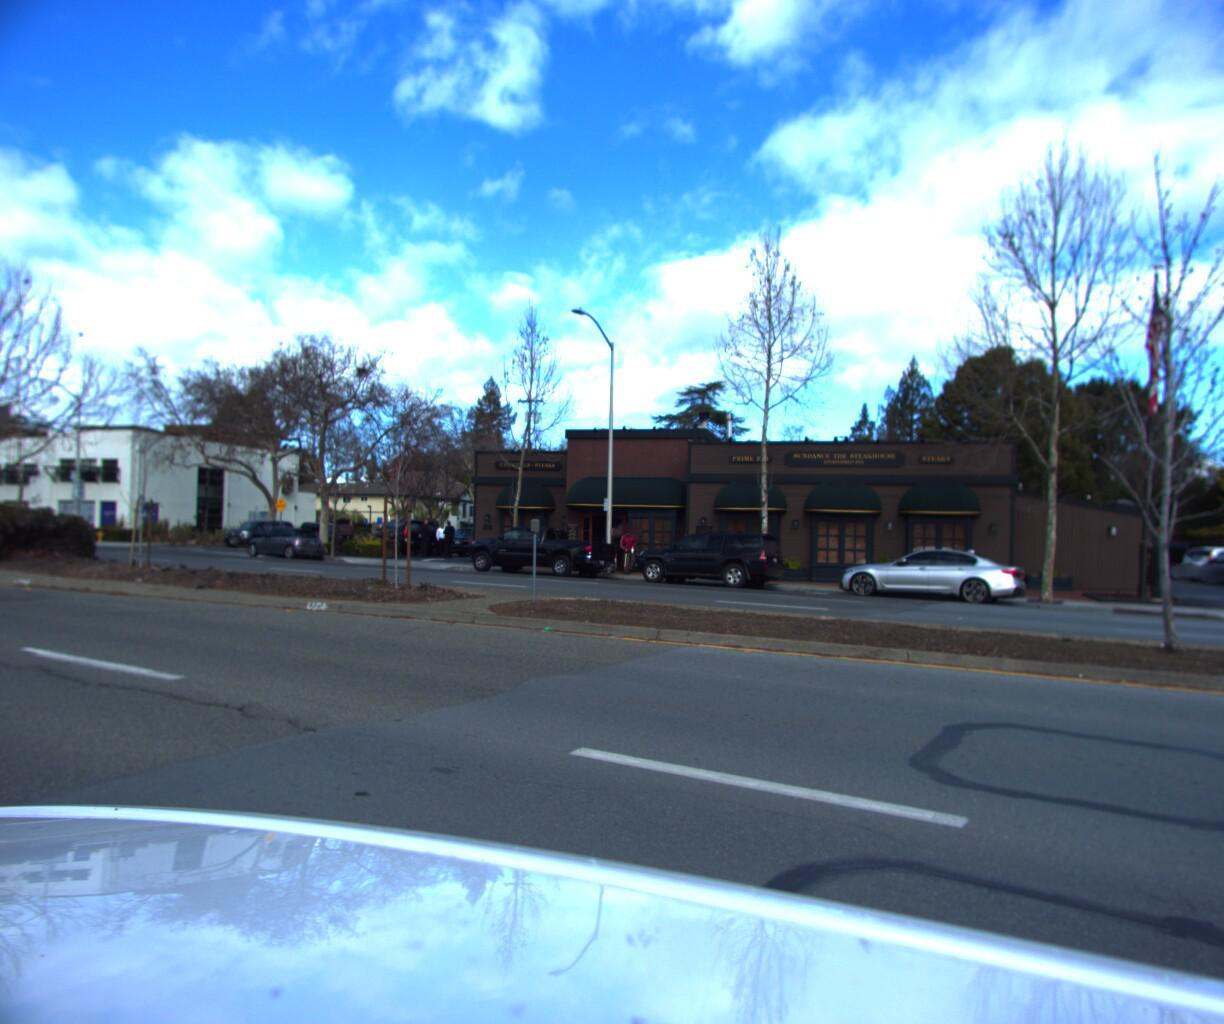car: (830, 542, 1035, 605), (625, 528, 792, 590), (460, 525, 620, 578), (225, 524, 336, 563), (218, 524, 298, 553)
